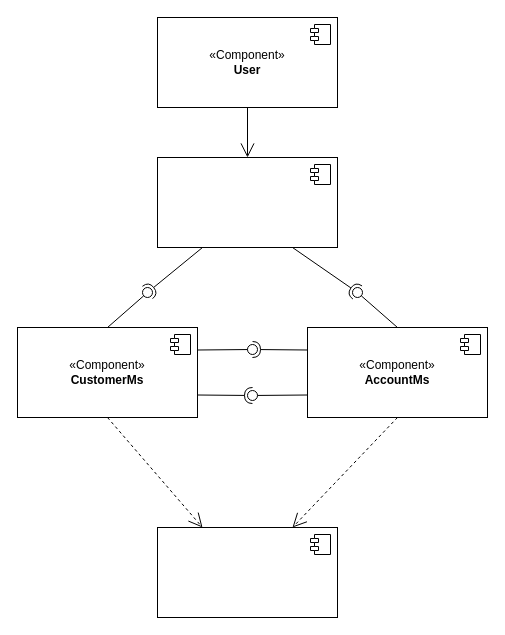
The diagram is 505 pixels wide and 635 high, and some of its shapes have lost their labels. The shapes that lost their labels are listed below. From the top down, each one's box as (x1, y1, x2, y2) in pixels, then its label:
(156, 156, 338, 248): «Component» API Gateway
(156, 526, 338, 618): «Component» Base de datos
